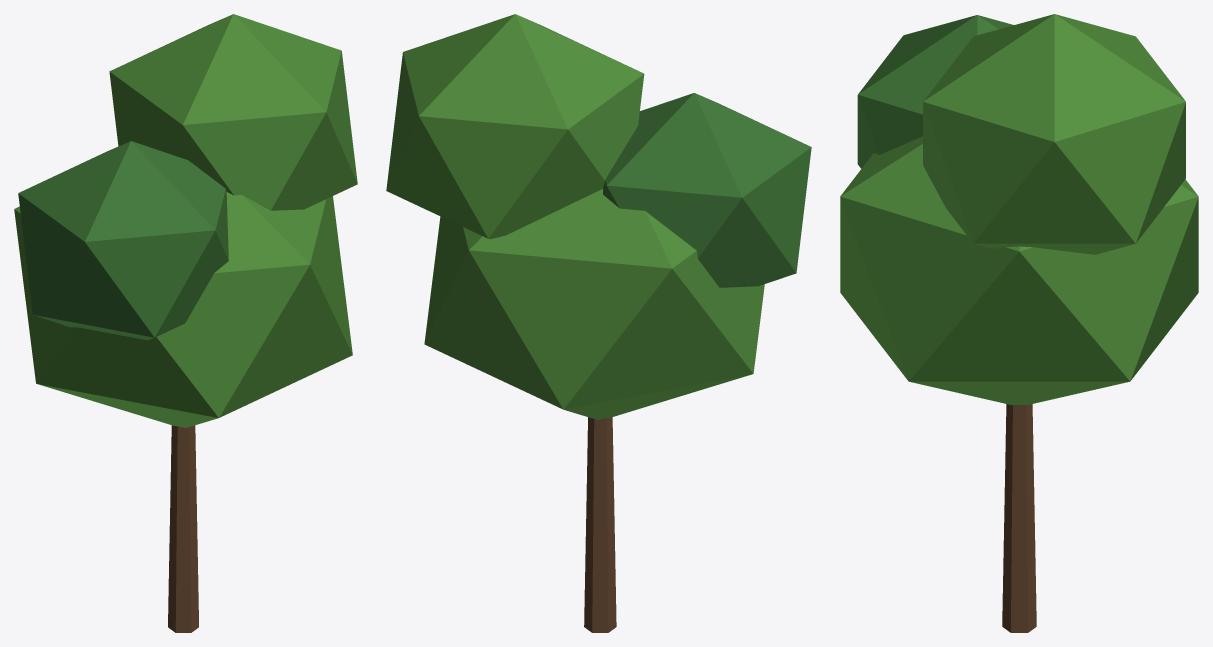
The model's file is PD_Tree.fbx.
3 renders of one model, left to right at view 1: azimuth 30°, elevation 25°; view 2: azimuth 150°, elevation 25°; view 3: azimuth 270°, elevation 25°, orthographic. The views are drawn at different scales.
Visible parts, largest first — view 1: PD_Tree_Mesh; view 2: PD_Tree_Mesh; view 3: PD_Tree_Mesh.
Part boxes in pixels (x1,y1,x2,y2): PD_Tree_Mesh: [14, 14, 357, 632]; PD_Tree_Mesh: [386, 14, 811, 632]; PD_Tree_Mesh: [840, 14, 1198, 632].
Size of the model in its own units: 4.07 by 6.62 by 3.32.
